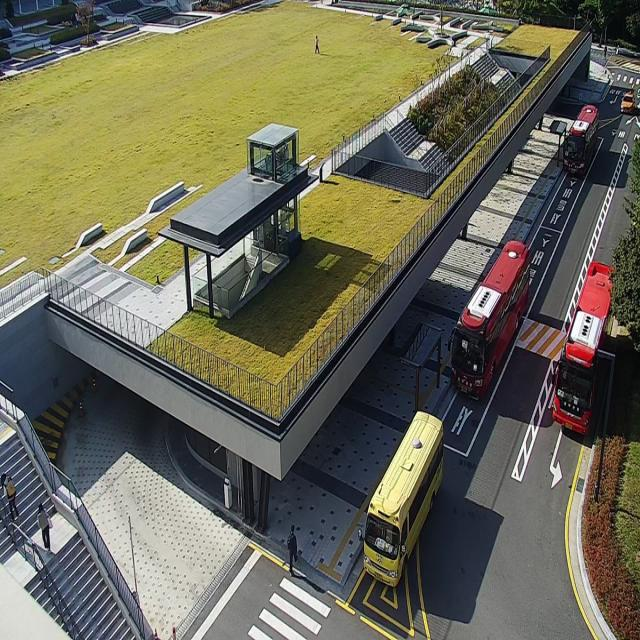queue: (417, 337, 439, 425)
